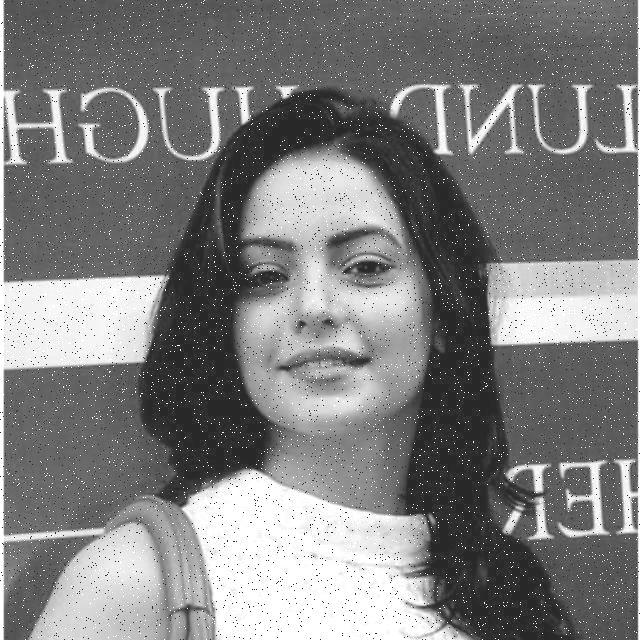real: (233, 150, 433, 434)
